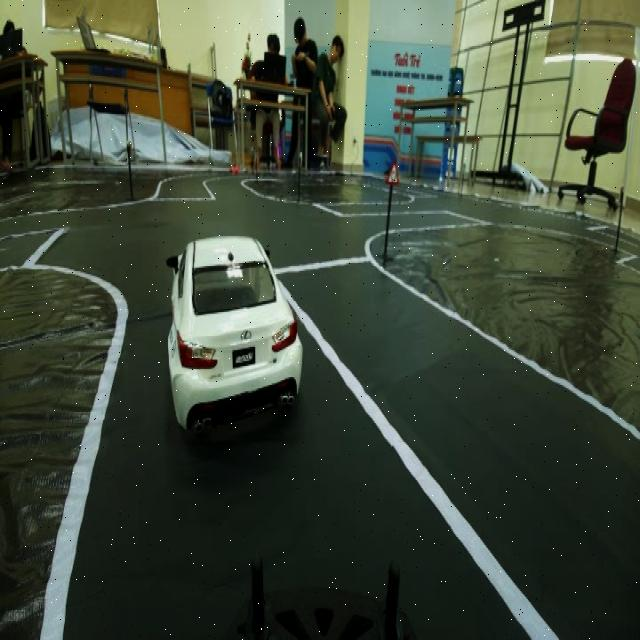car: (157, 232, 327, 465)
